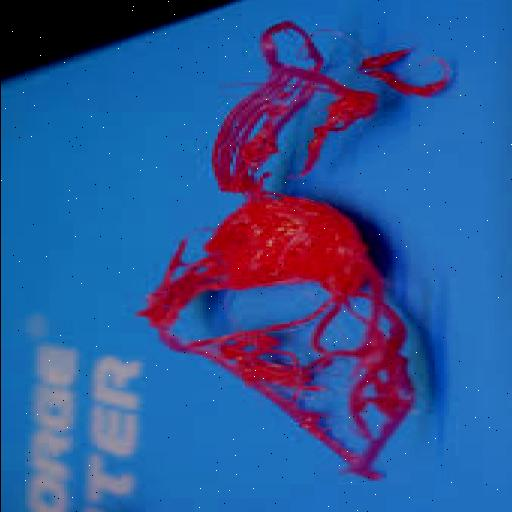spaghetti: (310, 262, 410, 360)
